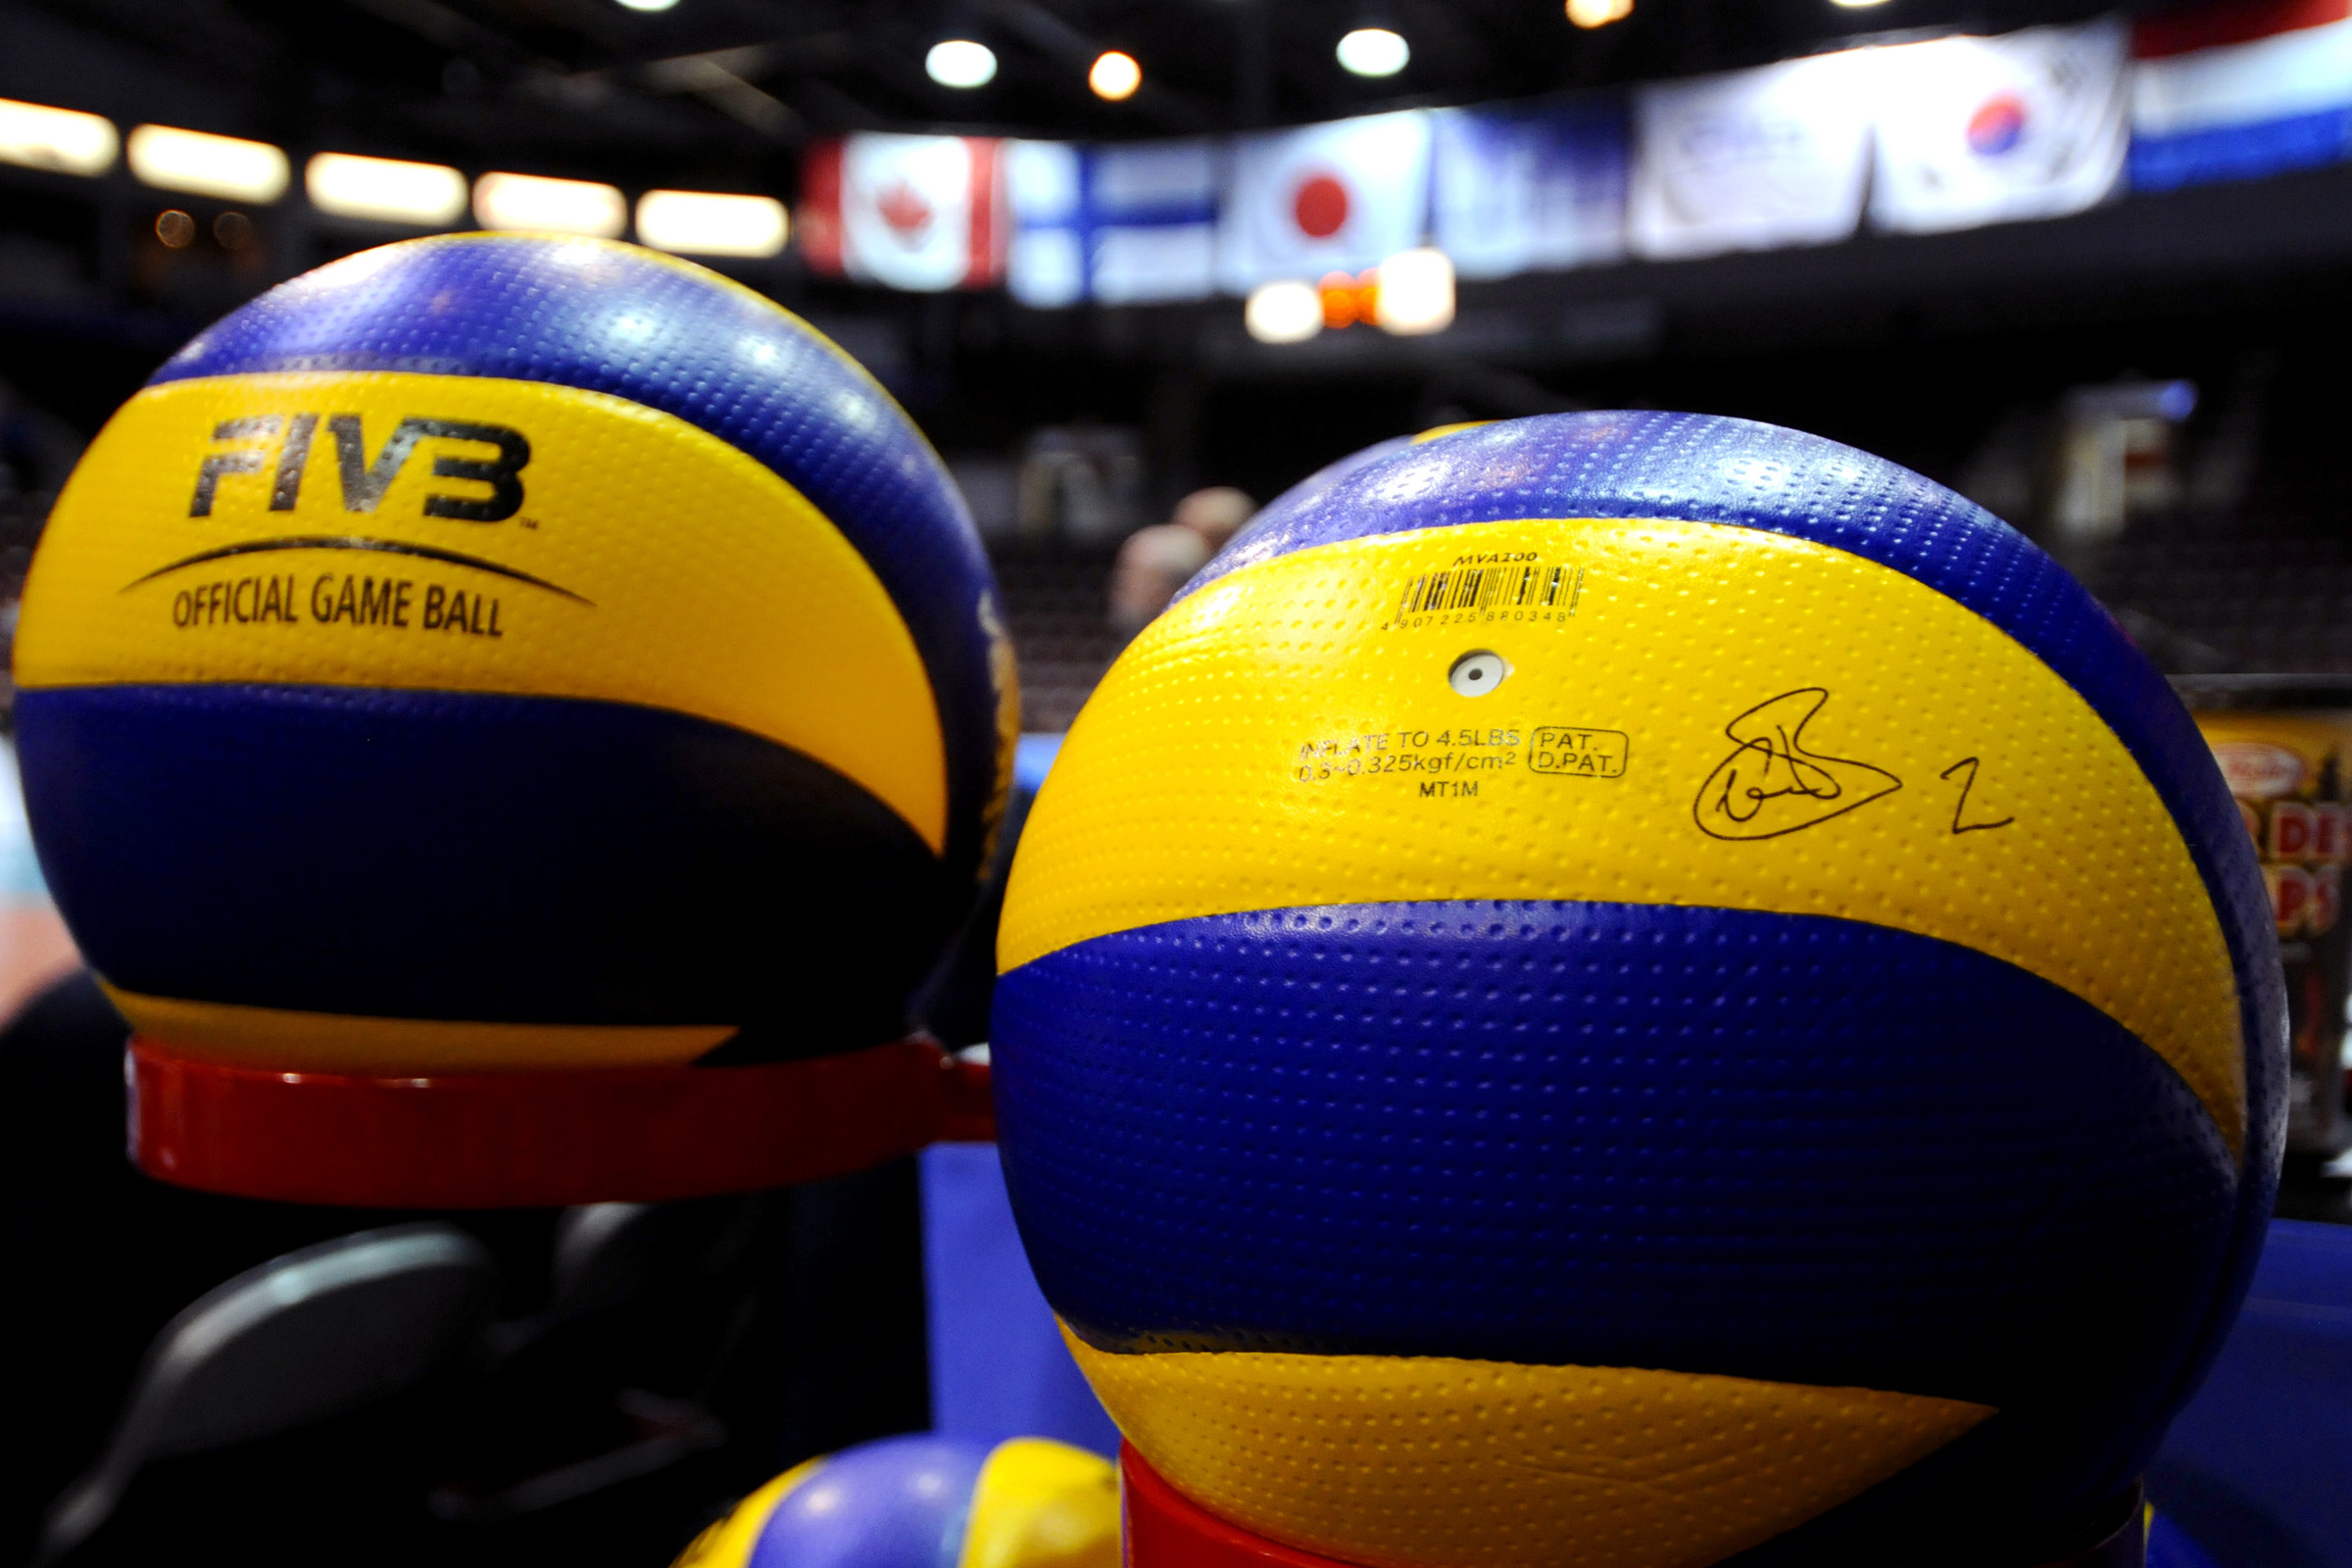volleyball: (996, 394, 2292, 1568), (23, 228, 1031, 1092)
